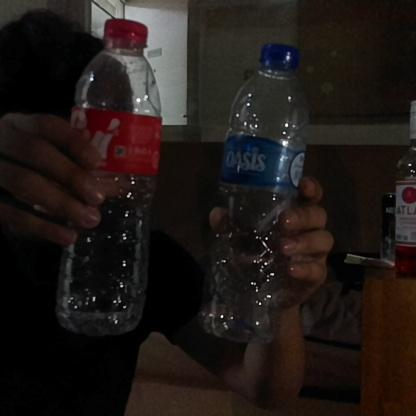plastic_bottles: (60, 14, 160, 328), (212, 37, 304, 354)
